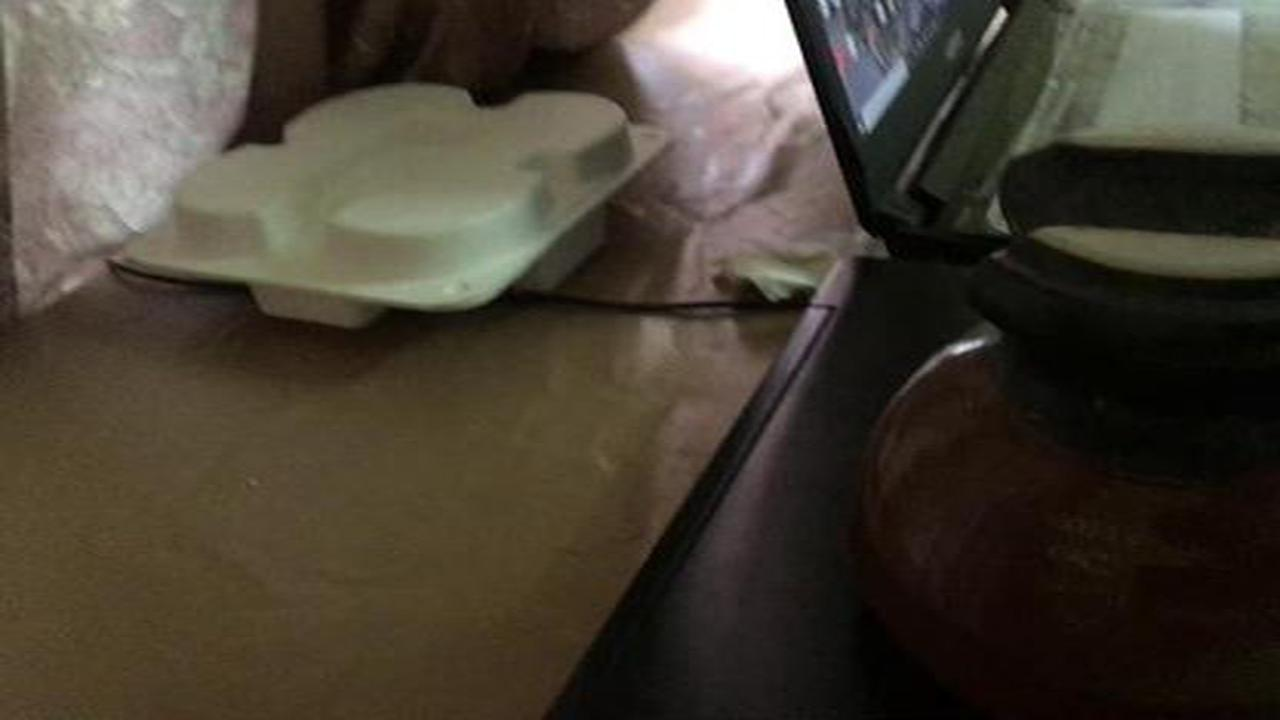insulator_pin: (834, 129, 1271, 686)
